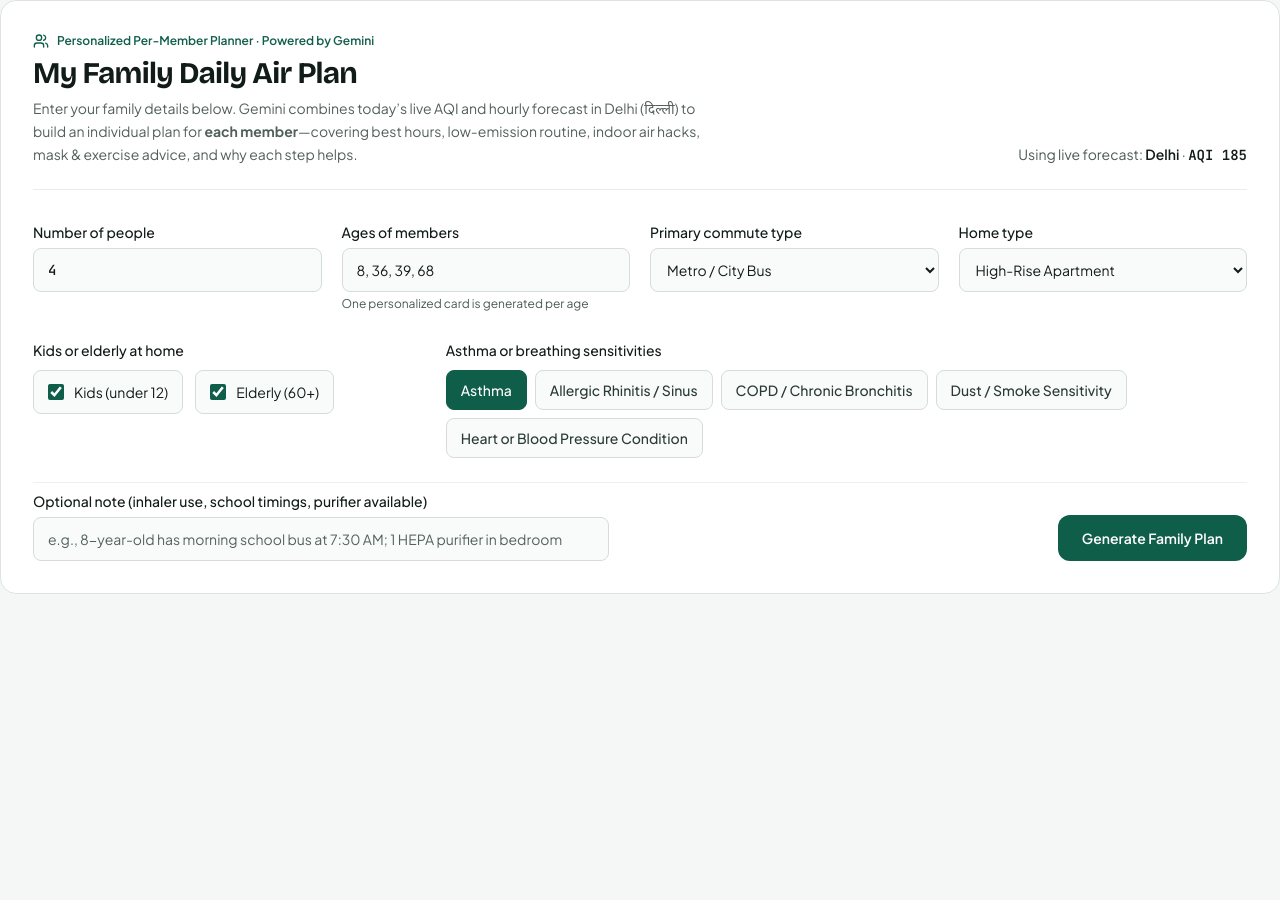
FamilyPlanSection — My Family form and plan display › shows a friendly error alert when /api/family-plan fails
Click the button "Generate Family Plan" at (1152, 538), box [1058, 515, 1247, 561]
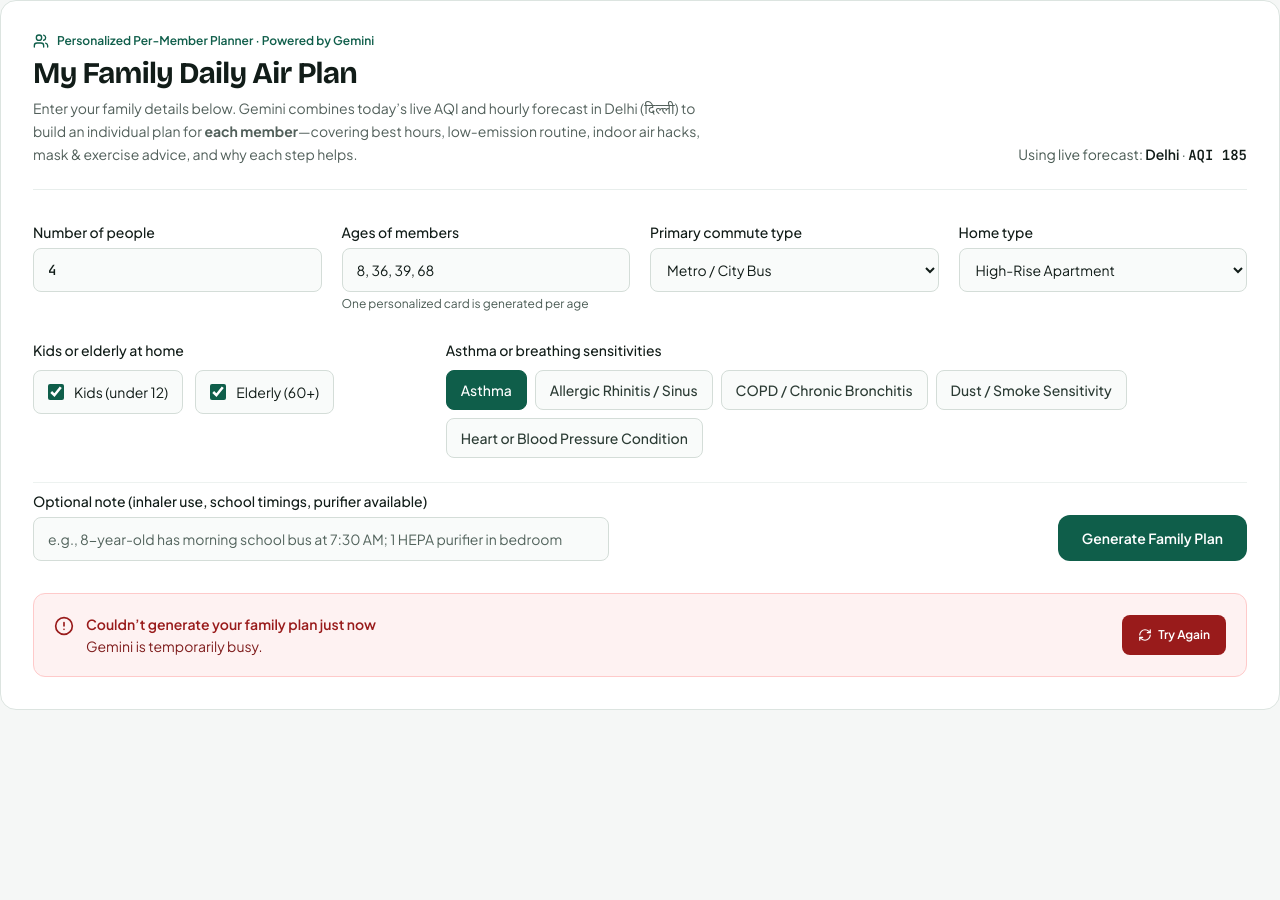
Expected: the message shows "Gemini is temporarily busy", [86, 637, 262, 655]
Expected: the button "Try Again" is shown, [1122, 615, 1226, 655]
